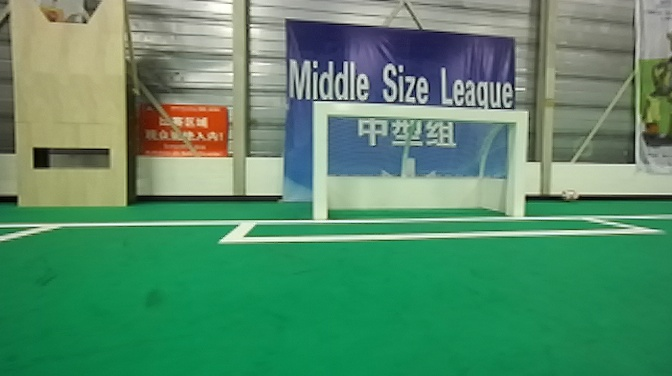ball: (561, 186, 582, 204)
goalpost: (302, 92, 336, 229), (506, 105, 531, 229)
